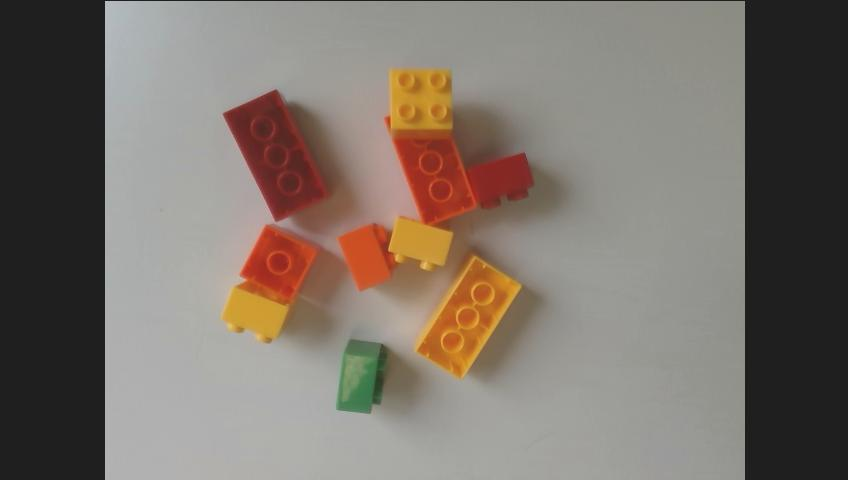2x2_green: (335, 338, 386, 413)
2x2_orange: (239, 222, 321, 299), (334, 221, 398, 290)
2x2_red: (465, 151, 535, 211)
2x2_yellow: (387, 66, 452, 140), (220, 280, 296, 343), (387, 214, 452, 272)
4x2_orange: (382, 114, 479, 226)
4x2_red: (223, 87, 332, 222)
4x2_yellow: (413, 248, 520, 380)
